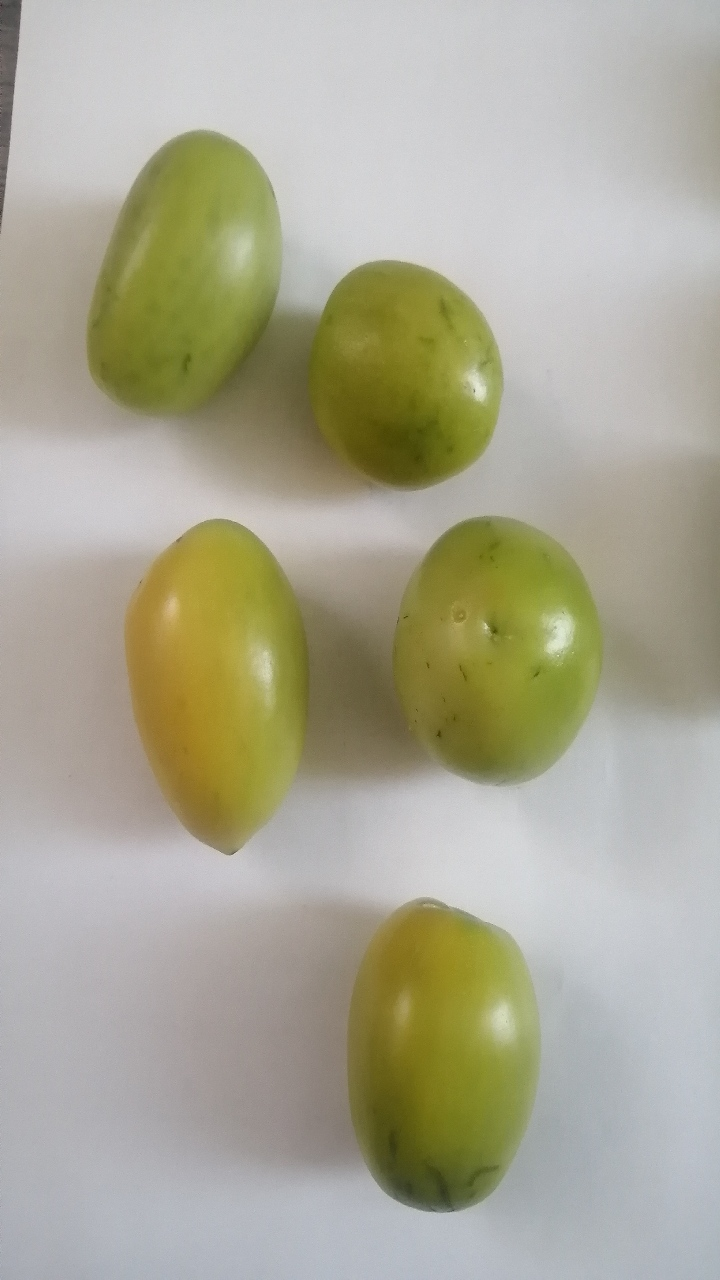tomateVerde: (111, 499, 326, 868), (60, 109, 295, 445), (368, 515, 637, 802), (334, 880, 538, 1232), (284, 228, 529, 500)
